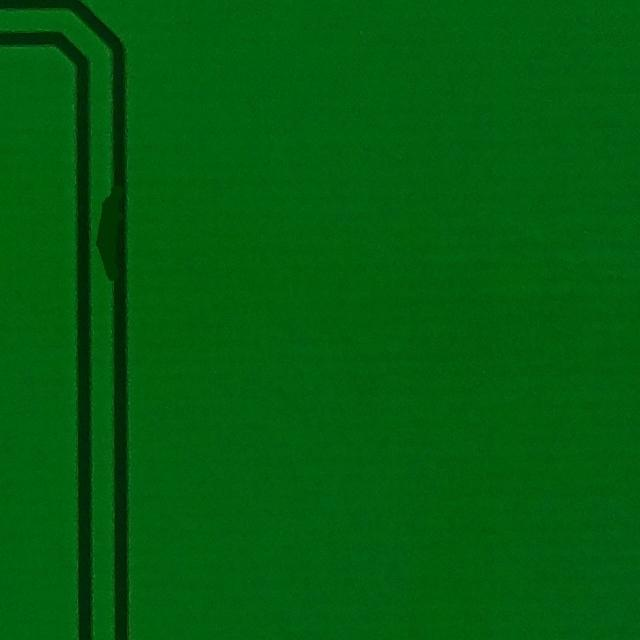mouse_bite: (80, 174, 126, 294)
